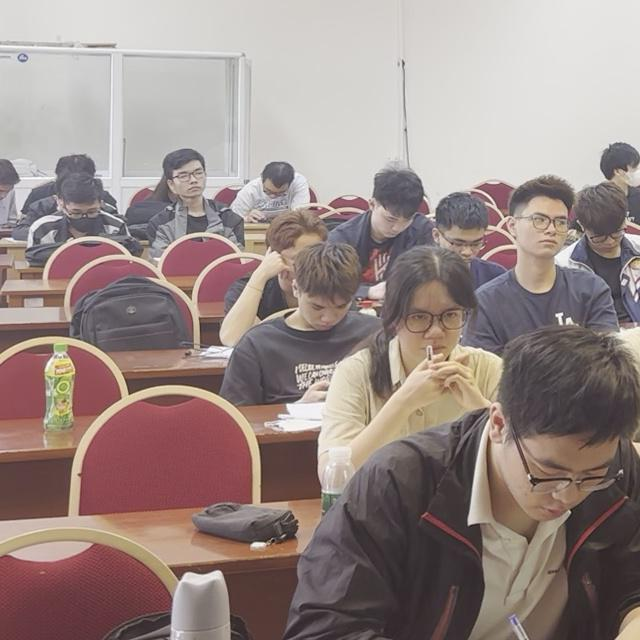Looking away: (521, 326, 618, 531), (342, 151, 434, 265), (251, 214, 318, 296), (425, 177, 487, 256), (573, 183, 630, 261), (44, 186, 132, 231), (596, 141, 636, 208), (55, 160, 102, 193)
Looking forward: (390, 271, 447, 425), (518, 186, 578, 263), (166, 127, 208, 209)
Phone use: (253, 237, 364, 445), (226, 158, 304, 243), (0, 155, 30, 224)
